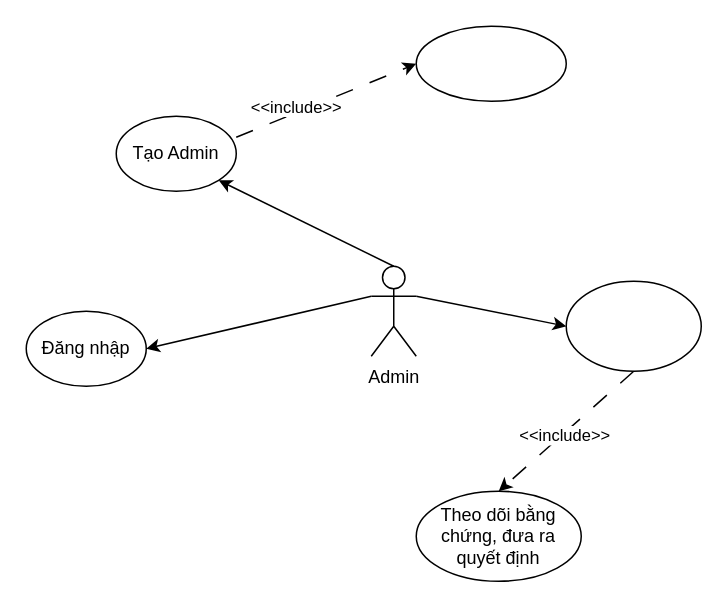
Some shapes in this 728 by 608 pixel diagram are drawn without their labels. Here are the shapes that lost their labels. From the top down, the centre of each, then its label:
At pixel 490 63: "Cung cấp thông tin, xác minh".
At pixel 633 325: "Giải quyết tranh chấp".
